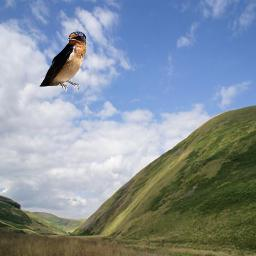Swallow: (39, 31, 86, 92)
